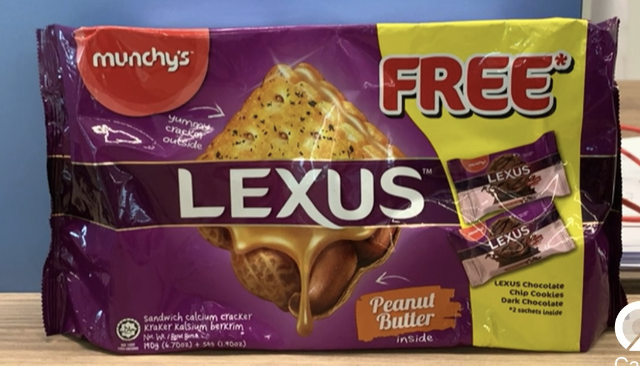crackers_200g-299g: (72, 38, 596, 336)
